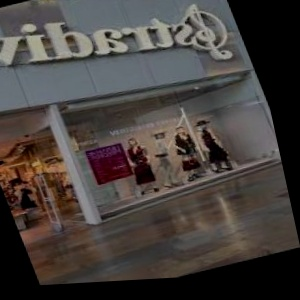stradivarius: (0, 55, 262, 86)
